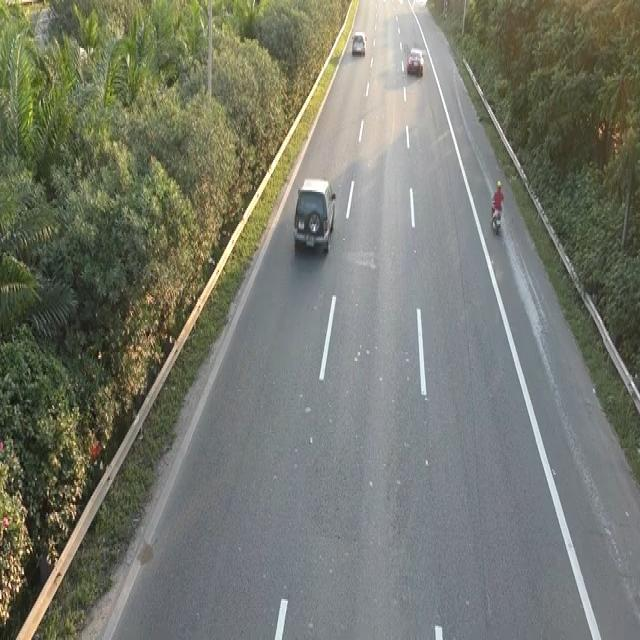car: (292, 174, 337, 256)
minibus: (489, 197, 503, 235)
